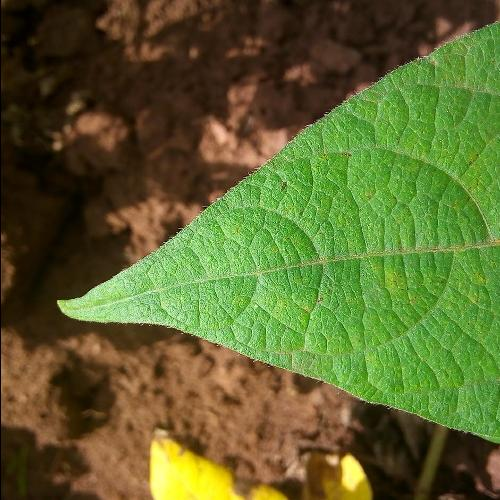sehat: (135, 81, 500, 349)
